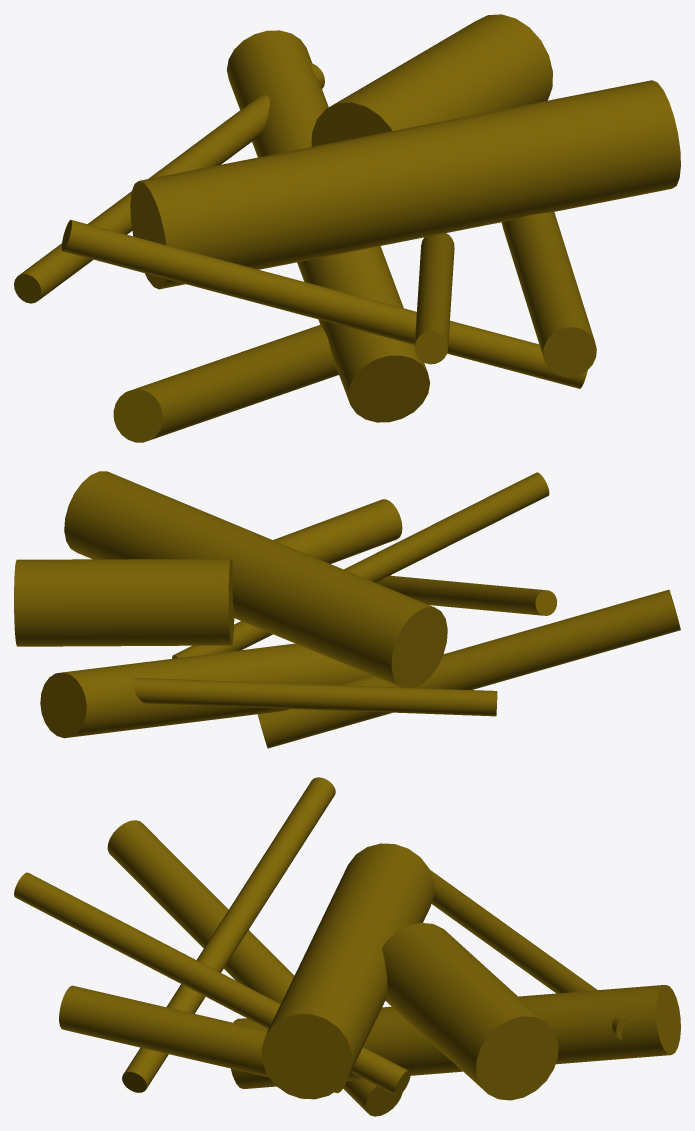
File: Campfire Sticks.fbx
3 renders of one model, top to bottom at view 1: azimuth 30°, elevation 25°; view 2: azimuth 150°, elevation 25°; view 3: azimuth 270°, elevation 25°, orthographic. The views are drawn at different scales.
Visible parts, largest first — view 1: sticks; view 2: sticks; view 3: sticks.
Part boxes in pixels (x1,y1,x2,y2): sticks: (14,14,680,442); sticks: (14,471,680,748); sticks: (14,777,680,1116).
Bounding box in the file's own units: 16.65 × 6.07 × 17.51.
